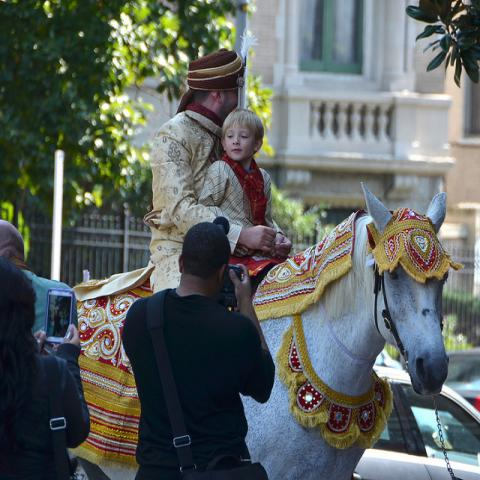car: (351, 365, 479, 479), (446, 349, 480, 400)
